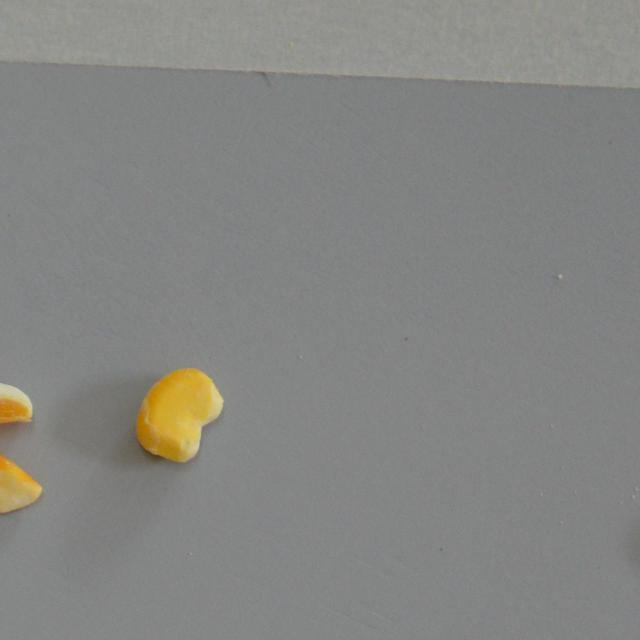pelicula: (136, 366, 224, 462), (0, 440, 44, 521), (0, 371, 34, 428)
